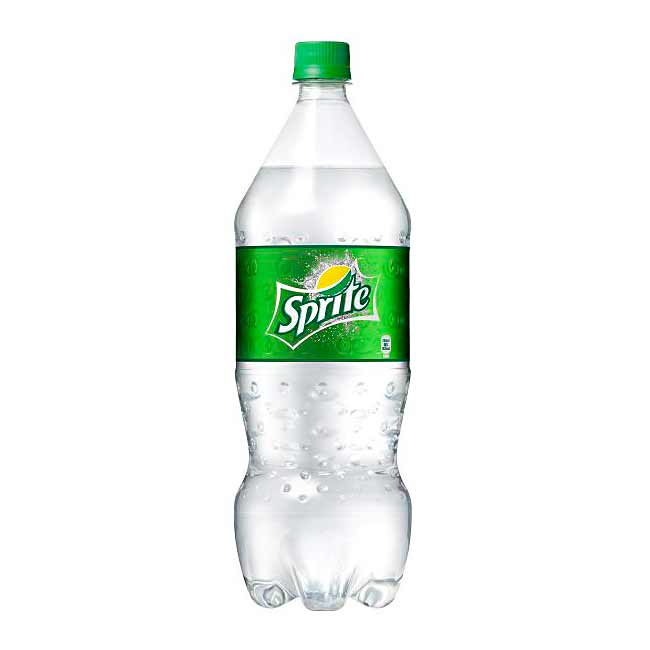sprite: (279, 273, 366, 335)
